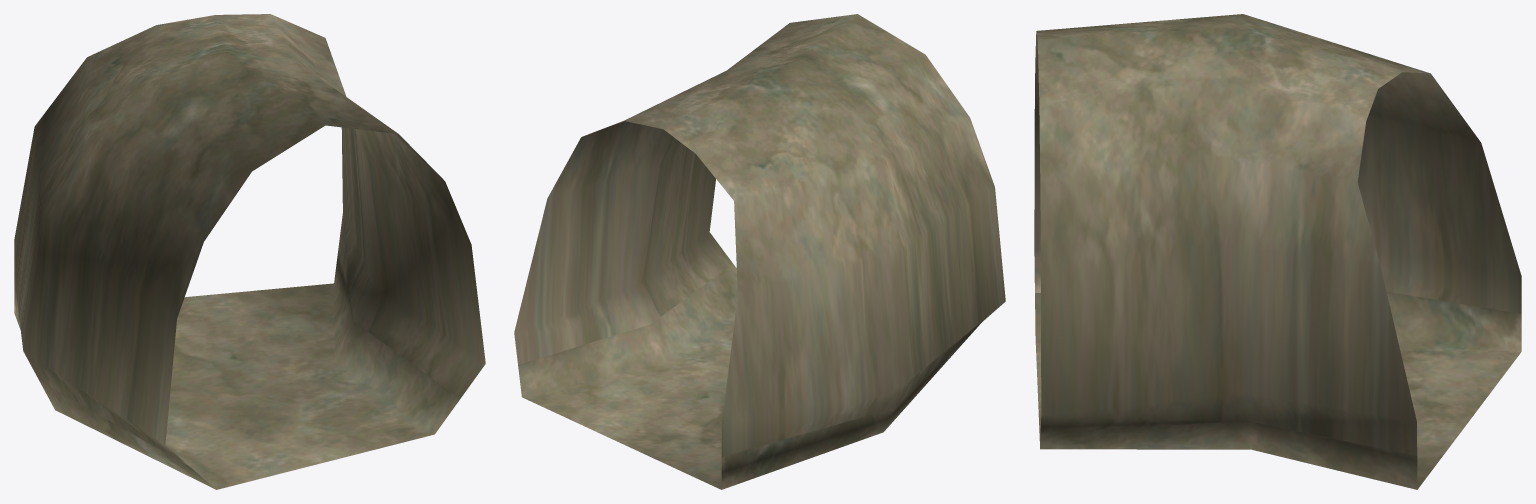
File: OVERHILL_A_01_OBJECT45.fbx
The picture shows the model from 3 angles, left to right: view 1: azimuth 30°, elevation 25°; view 2: azimuth 150°, elevation 25°; view 3: azimuth 270°, elevation 25°; orthographic projection. The views are drawn at different scales.
Parts seen in each view (by area): view 1: OVERHILL_A_01_OBJECT45; view 2: OVERHILL_A_01_OBJECT45; view 3: OVERHILL_A_01_OBJECT45.
Part boxes in pixels (bbox=[...]): OVERHILL_A_01_OBJECT45: bbox=[14, 14, 485, 489]; OVERHILL_A_01_OBJECT45: bbox=[514, 14, 1005, 489]; OVERHILL_A_01_OBJECT45: bbox=[1034, 14, 1521, 489].
Size of the model in its own units: 26663 by 23343 by 28600.
Materials: 1 (1 with a texture image).
